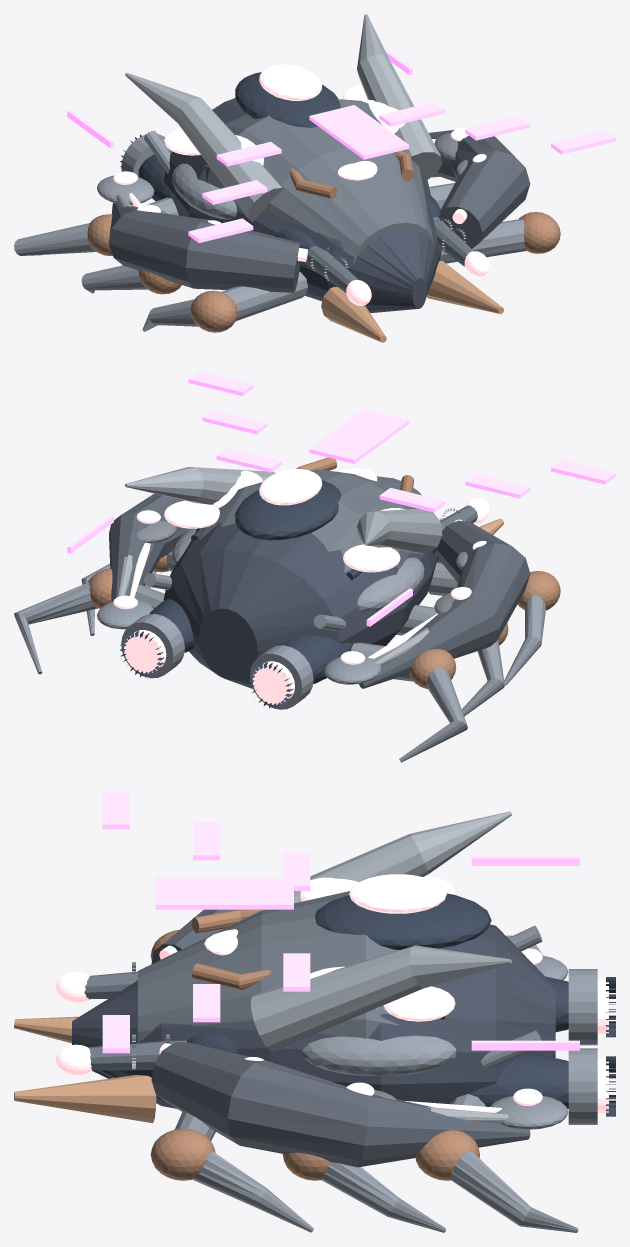
File: npc_bossVoidCorsair.glb
3 views of the same model, one above another, from view 1: azimuth 30°, elevation 25°; view 2: azimuth 150°, elevation 25°; view 3: azimuth 270°, elevation 25° (orthographic). The views are drawn at different scales.
Visible parts, largest first — view 1: upper_armor_scar, armored_scythe_-1, keel_pressure_hull, V59 trim baked, armored_scythe_1, prime_arch_back_-1, prime_arch_back_1, prime_reactor_tower, vrx_spider_leg_-1_0, vrx_spider_leg_-1_2, prime_secondary_horn_1, prime_emitter (+20 smaller); view 2: keel_pressure_hull, armored_scythe_-1, V59 trim baked, upper_armor_scar, prime_reactor_tower, armored_scythe_1, prime_arch_back_-1, prime_arch_back_1, vrx_spider_leg_1_2, vrx_spider_leg_-1_2, vrx_spider_leg_-1_0, vrx_spider_leg_-1_1 (+17 smaller); view 3: armored_scythe_1, keel_pressure_hull, upper_armor_scar, V59 trim baked, prime_arch_back_1, prime_reactor_tower, prime_arch_back_-1, heavy_shield_pad_1, prime_secondary_horn_1, vrx_spider_leg_1_2, vrx_spider_leg_1_0, prime_emitter (+24 smaller).
Boxes of the visible parts, bbox=[...] form: upper_armor_scar: bbox=[203, 99, 434, 266]; armored_scythe_-1: bbox=[109, 202, 301, 292]; keel_pressure_hull: bbox=[163, 98, 441, 312]; V59 trim baked: bbox=[67, 47, 615, 242]; armored_scythe_1: bbox=[429, 130, 530, 248]; prime_arch_back_-1: bbox=[125, 72, 282, 222]; prime_arch_back_1: bbox=[357, 14, 442, 179]; prime_reactor_tower: bbox=[235, 72, 340, 127]; vrx_spider_leg_-1_0: bbox=[142, 271, 307, 331]; vrx_spider_leg_-1_2: bbox=[14, 197, 178, 255]; prime_secondary_horn_1: bbox=[426, 261, 503, 313]; prime_emitter: bbox=[259, 64, 322, 100]; keel_pressure_hull: bbox=[163, 522, 438, 688]; armored_scythe_-1: bbox=[359, 520, 530, 688]; V59 trim baked: bbox=[67, 371, 615, 626]; upper_armor_scar: bbox=[198, 470, 432, 572]; prime_reactor_tower: bbox=[235, 480, 341, 540]; armored_scythe_1: bbox=[109, 493, 189, 601]; prime_arch_back_-1: bbox=[357, 508, 442, 554]; prime_arch_back_1: bbox=[125, 467, 275, 504]; vrx_spider_leg_1_2: bbox=[14, 583, 164, 674]; vrx_spider_leg_-1_2: bbox=[351, 642, 467, 762]; vrx_spider_leg_-1_0: bbox=[428, 562, 546, 685]; vrx_spider_leg_-1_1: bbox=[396, 605, 504, 716]; armored_scythe_1: bbox=[151, 1042, 530, 1167]; keel_pressure_hull: bbox=[72, 924, 555, 1108]; upper_armor_scar: bbox=[138, 891, 400, 1042]; V59 trim baked: bbox=[102, 791, 579, 1053]; prime_arch_back_1: bbox=[250, 945, 511, 1051]; prime_reactor_tower: bbox=[315, 893, 491, 949]; prime_arch_back_-1: bbox=[294, 811, 511, 903]; heavy_shield_pad_1: bbox=[302, 1035, 456, 1075]; prime_secondary_horn_1: bbox=[14, 1075, 156, 1123]; vrx_spider_leg_1_2: bbox=[450, 1094, 578, 1232]; vrx_spider_leg_1_0: bbox=[175, 1112, 313, 1232]; prime_emitter: bbox=[349, 874, 446, 913].
Size of the model in its own units: 3.65 by 1.46 by 3.32.
